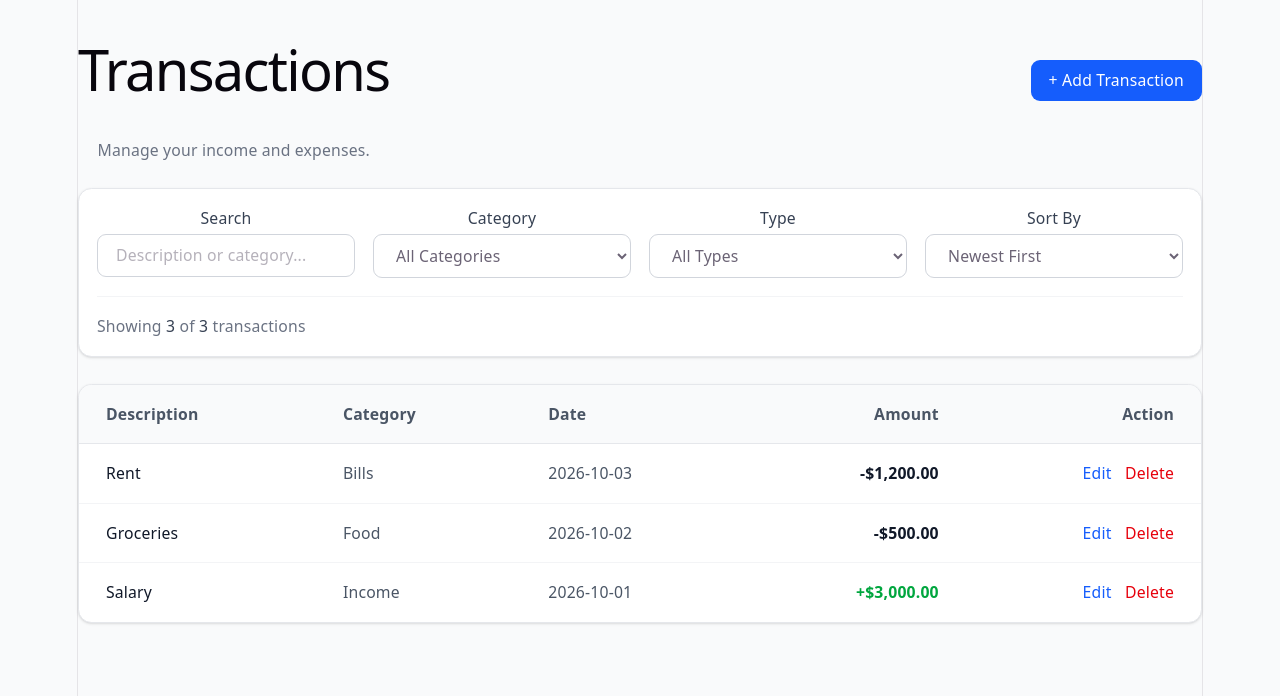
Test: TransactionsPage › opens the edit form for a transaction
Click the button "Edit" in the row of "Rent".
click(1097, 473)  # box [1083,462,1112,485]
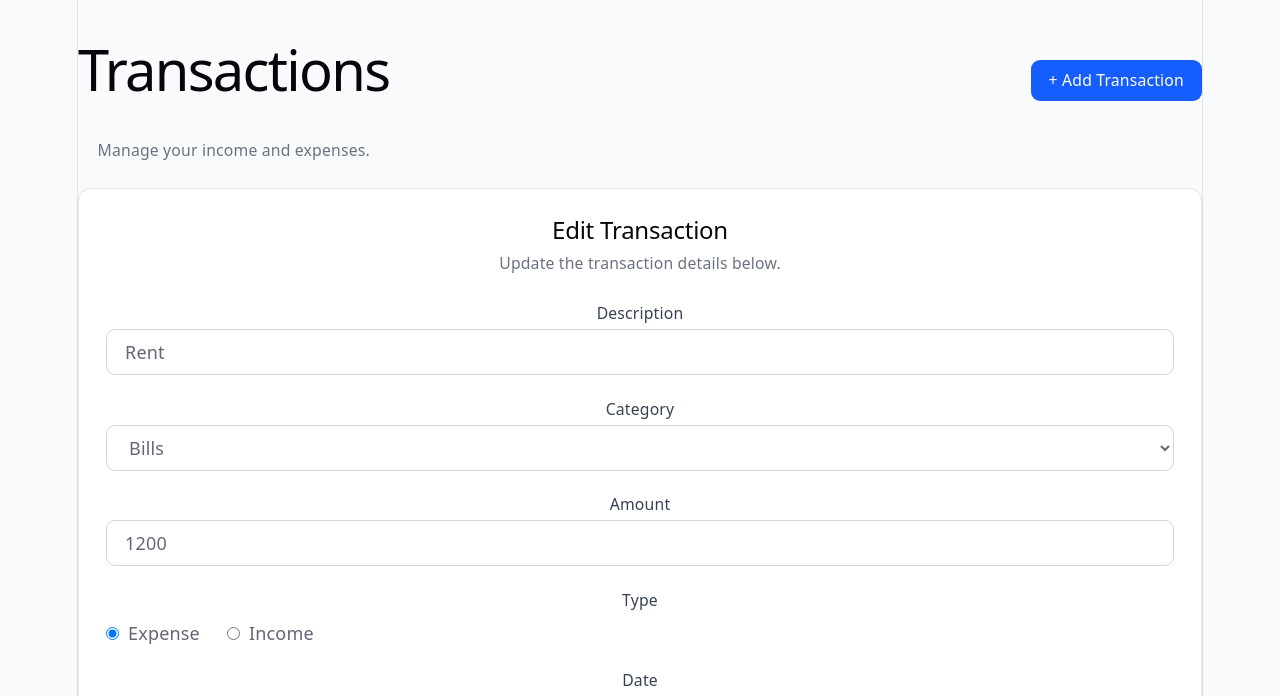
Now the heading "Edit Transaction" is shown, box [552,213,728,246]
